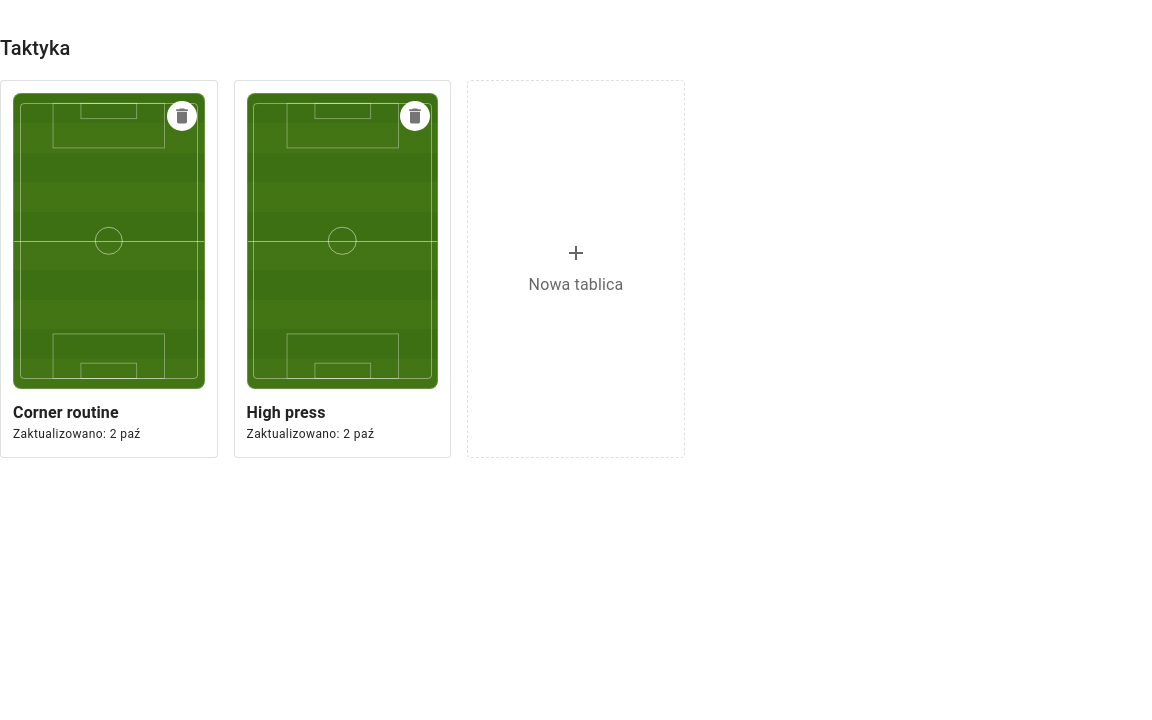
Test case: deleting a board › names the board in the confirmation and deletes it
This screenshot has width=1152, height=720.
Check: the text "Corner routine" is shown, box x1=13 y1=403 x2=119 y2=422
Click the 1st button named "Usuń tablicę".
click(182, 116)  # box x1=167 y1=101 x2=197 y2=131
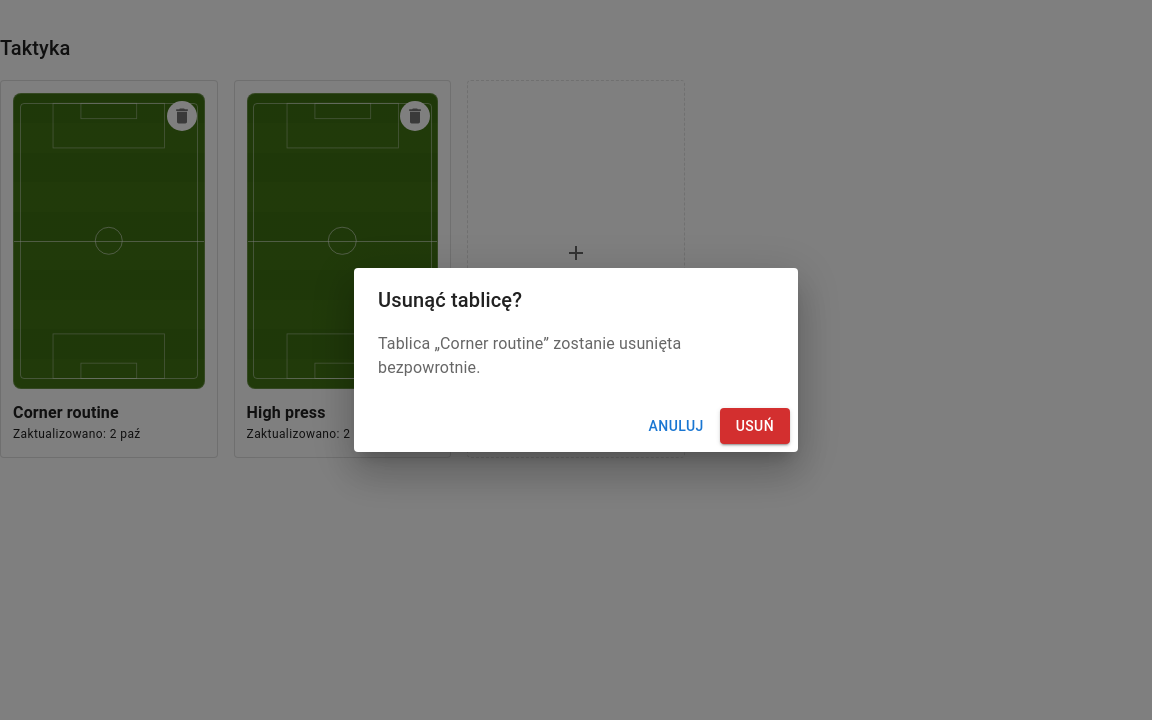
Check: the heading "Usunąć tablicę?" is shown, box x1=378 y1=288 x2=522 y2=312
Check: the text "Tablica „Corner routine” zostanie usunięta bezpowrotnie." is shown, box x1=378 y1=334 x2=681 y2=377
Click the button "Usuń".
click(755, 426)  # box x1=720 y1=408 x2=790 y2=444
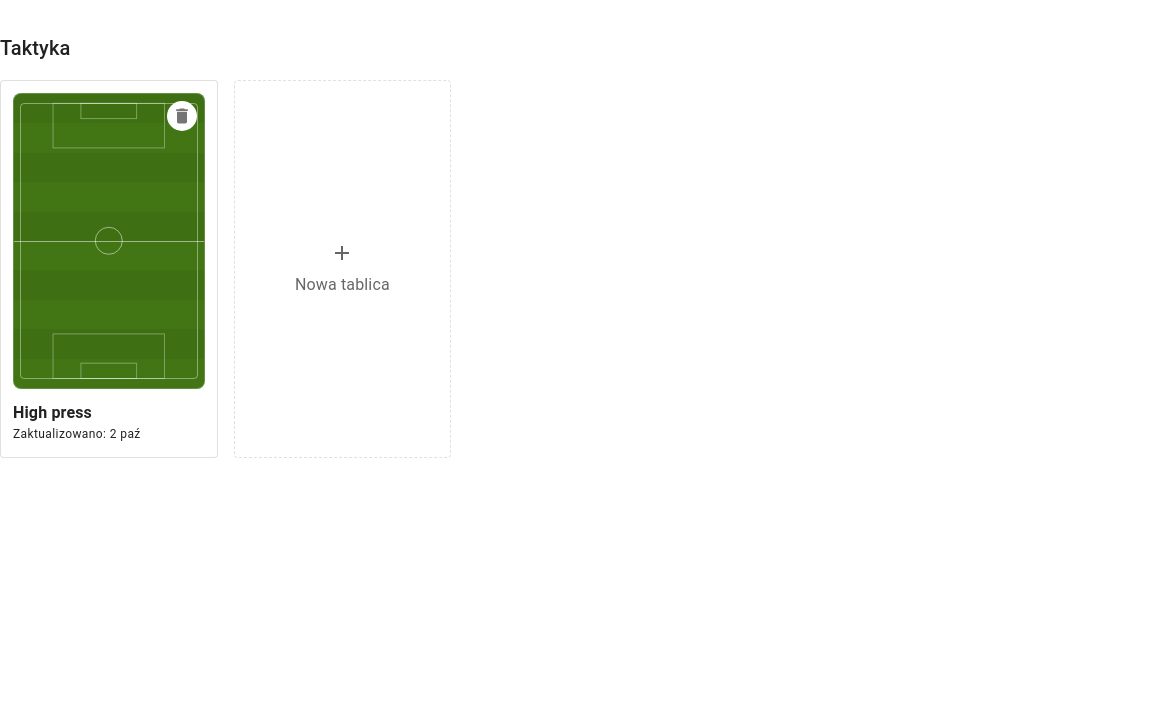
Check: the text "High press" is shown, box x1=13 y1=403 x2=92 y2=422
Check: the button "Corner routine" is gone
